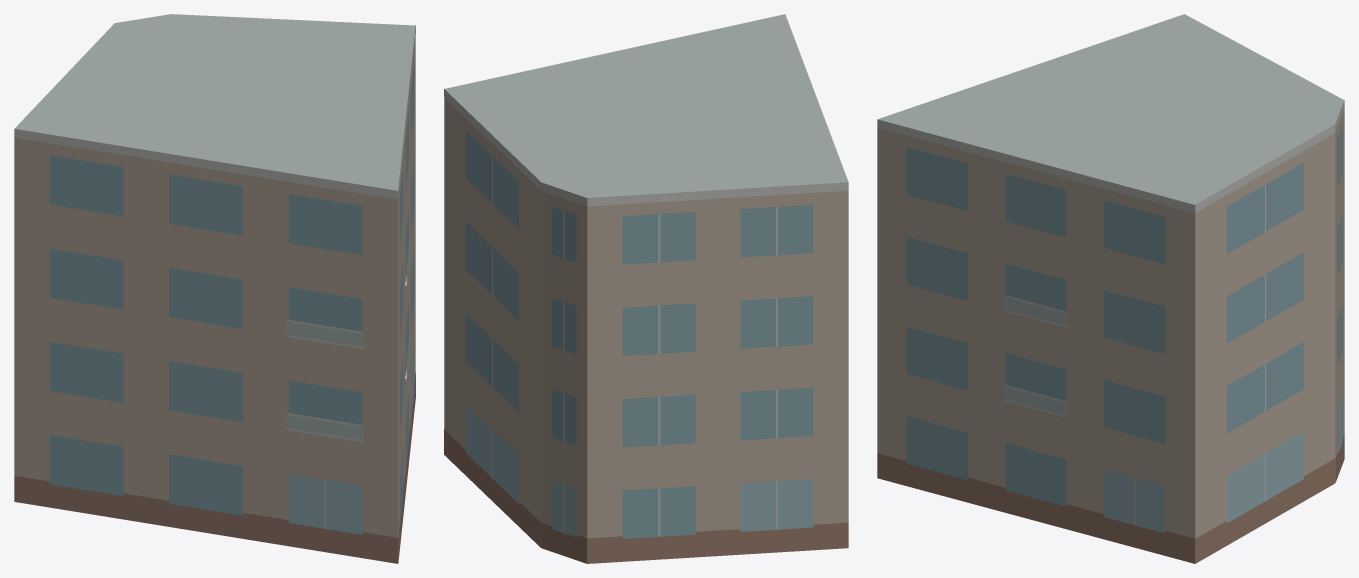
File: survey-upis-32783467.glb
3 renders of one model, left to right at view 1: azimuth 30°, elevation 25°; view 2: azimuth 150°, elevation 25°; view 3: azimuth 270°, elevation 25°, orthographic. The views are drawn at different scales.
Visible parts, largest first — view 1: survey-upis-32783467.tmp; view 2: survey-upis-32783467.tmp; view 3: survey-upis-32783467.tmp.
Part boxes in pixels (x1,y1,x2,y2): survey-upis-32783467.tmp: [14, 14, 415, 563]; survey-upis-32783467.tmp: [444, 14, 848, 563]; survey-upis-32783467.tmp: [877, 14, 1344, 563].
Size of the model in its own units: 12.11 by 10.6 by 12.51.
